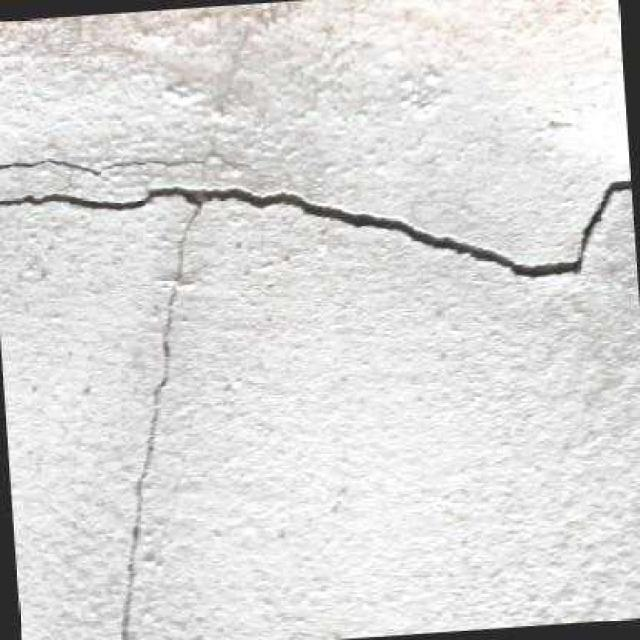D00: (0, 177, 632, 640), (0, 158, 204, 176)
